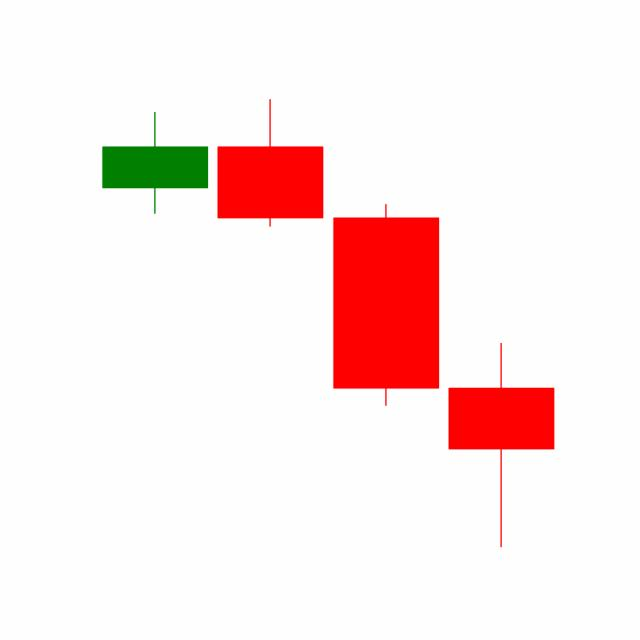Marubozu: (328, 202, 444, 409)
